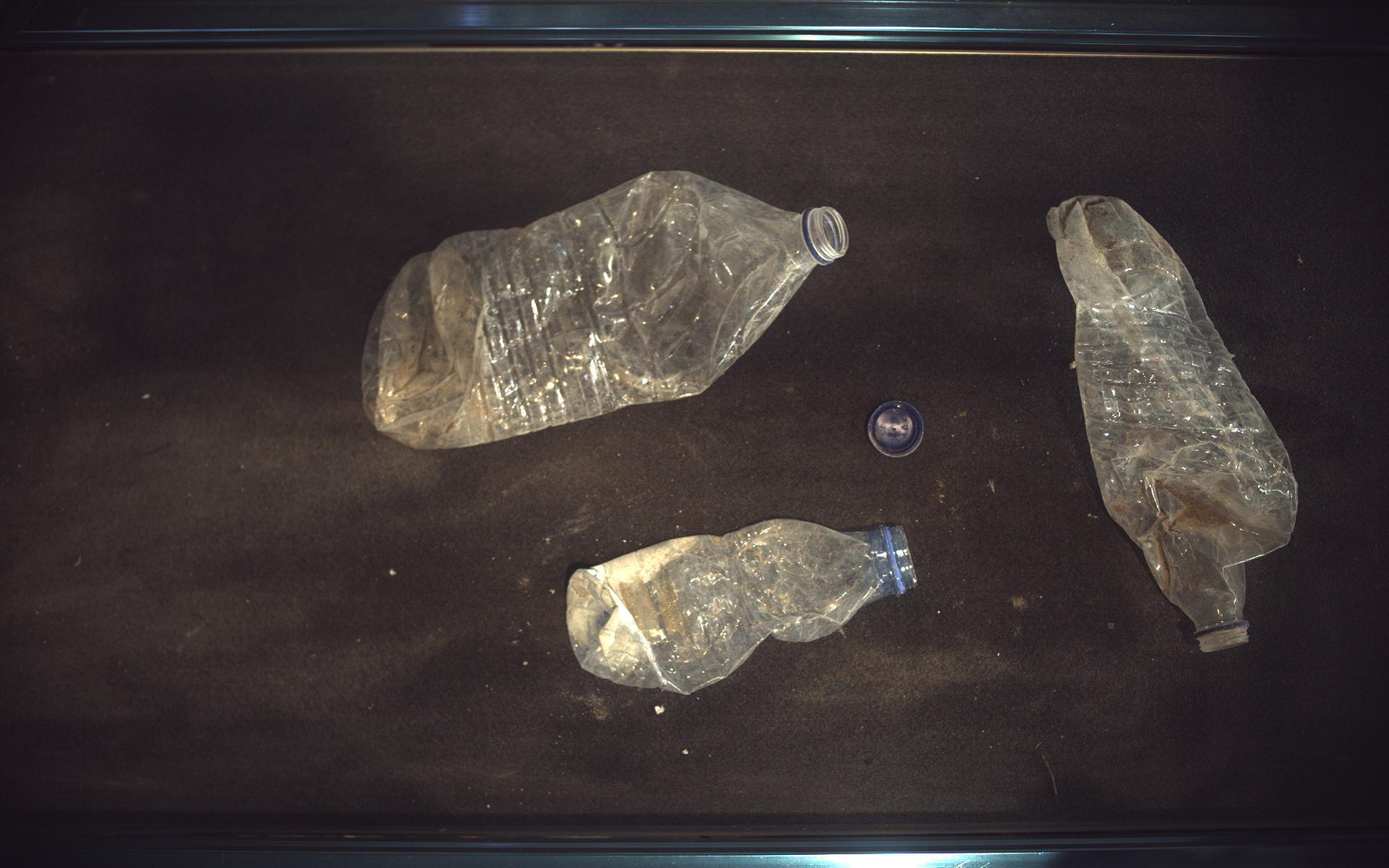general_w: (362, 171, 850, 448), (1049, 195, 1301, 653), (567, 519, 918, 696), (868, 400, 926, 458)
